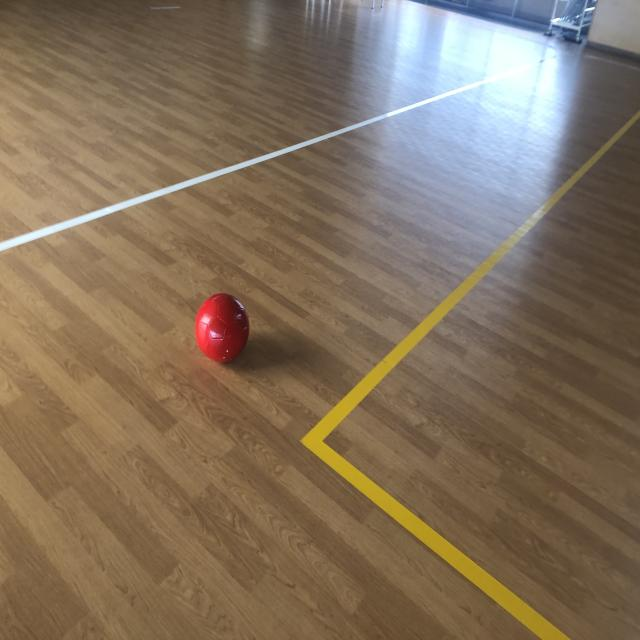red_ball: (194, 292, 250, 364)
